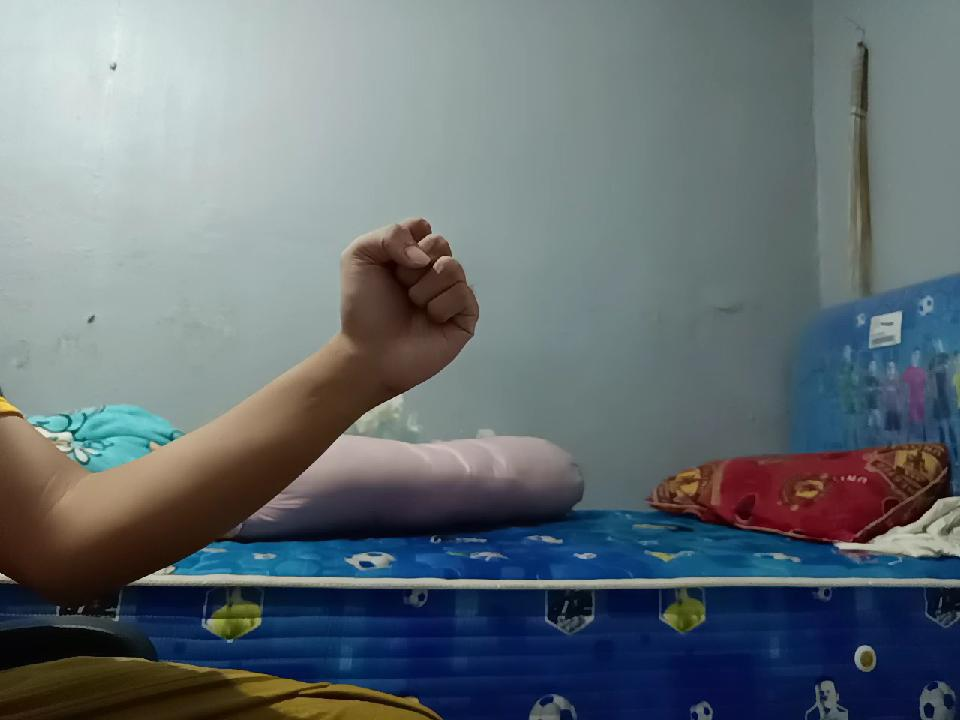rock: (332, 204, 486, 394)
